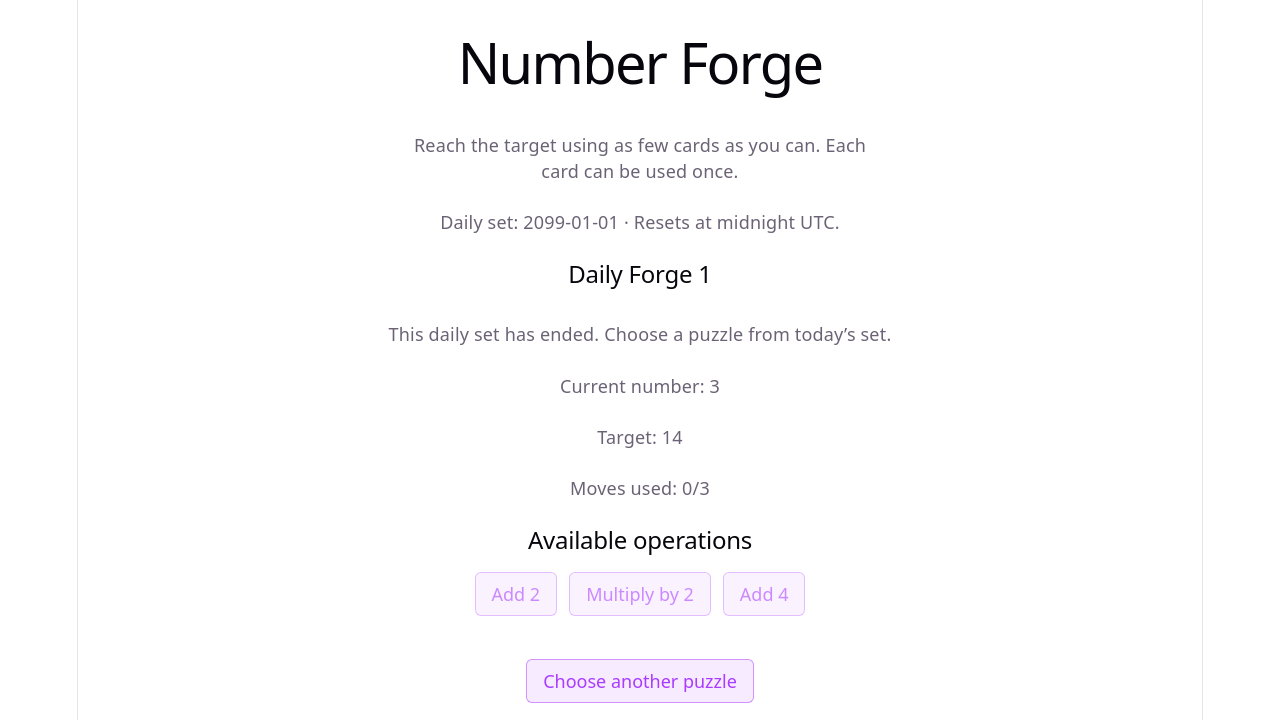
it: expired daily attempts disable cards and replay while allowing a current puzzle
Expected: the text "This daily set has ended. Choose a puzzle from today’s set." is shown, top-left (389, 321), bottom-right (891, 348)
Expected: the button "Add 2" is disabled, top-left (474, 572), bottom-right (557, 616)
Click the button "Choose another puzzle" at coordinates (640, 681), box top-left (526, 659), bottom-right (754, 703)
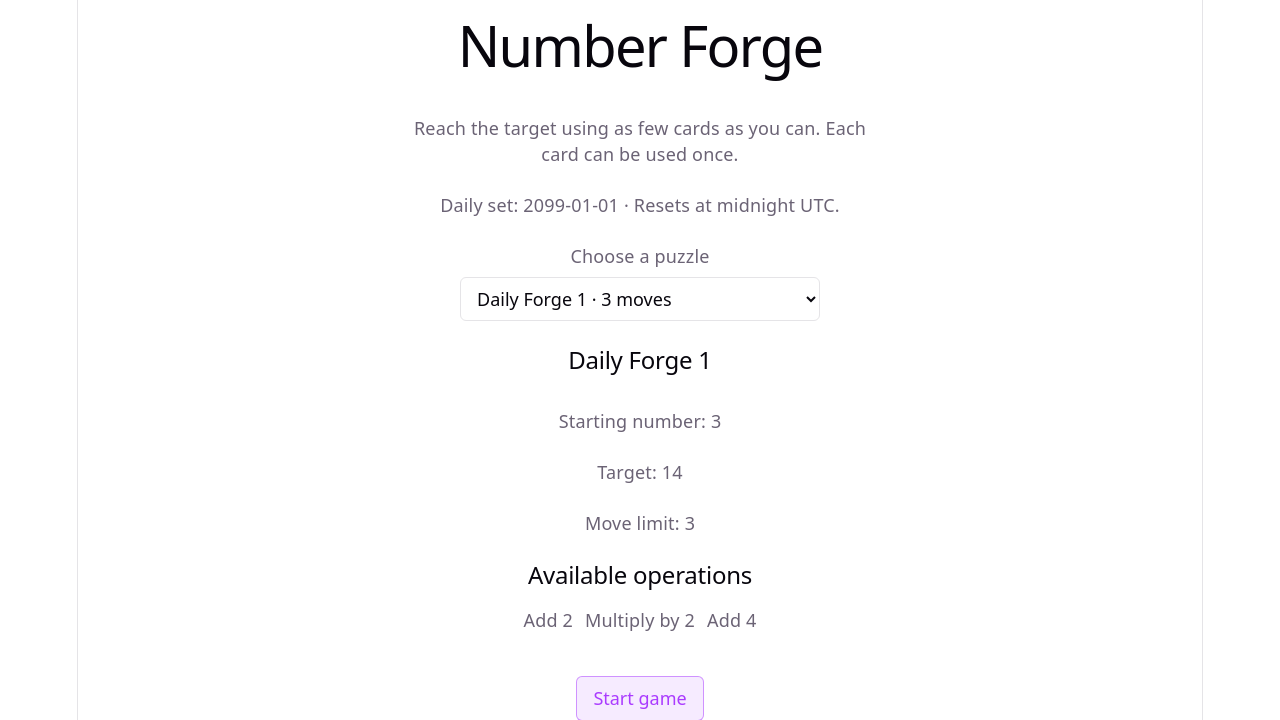
Result: the dropdown is shown at top-left (460, 278), bottom-right (820, 322)
Result: the button "Start game" is shown at top-left (576, 676), bottom-right (704, 719)
